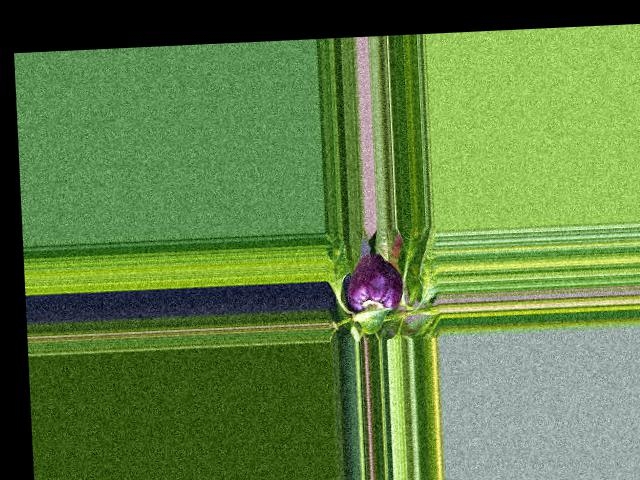bell_pepper: (345, 250, 405, 319)
